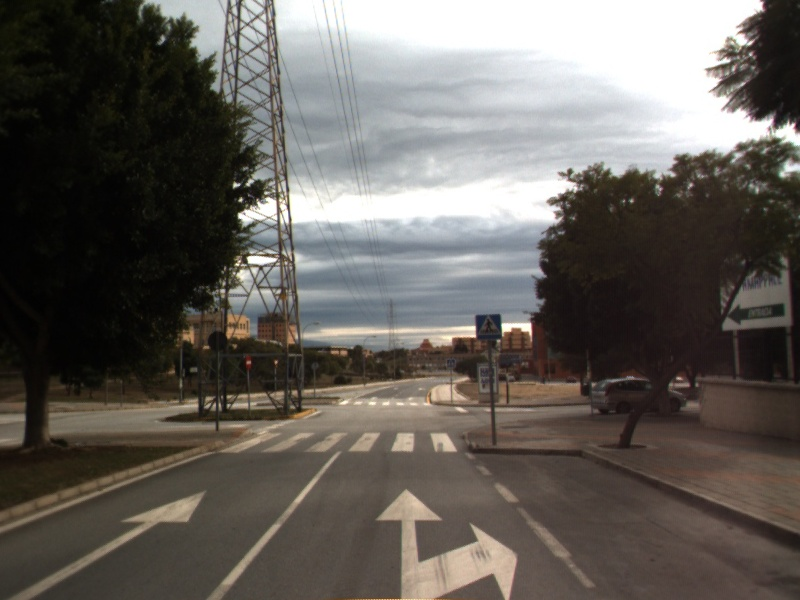STRAIGHT: (5, 486, 210, 600)
STRAIGHT_RIGHT: (371, 484, 520, 600)
